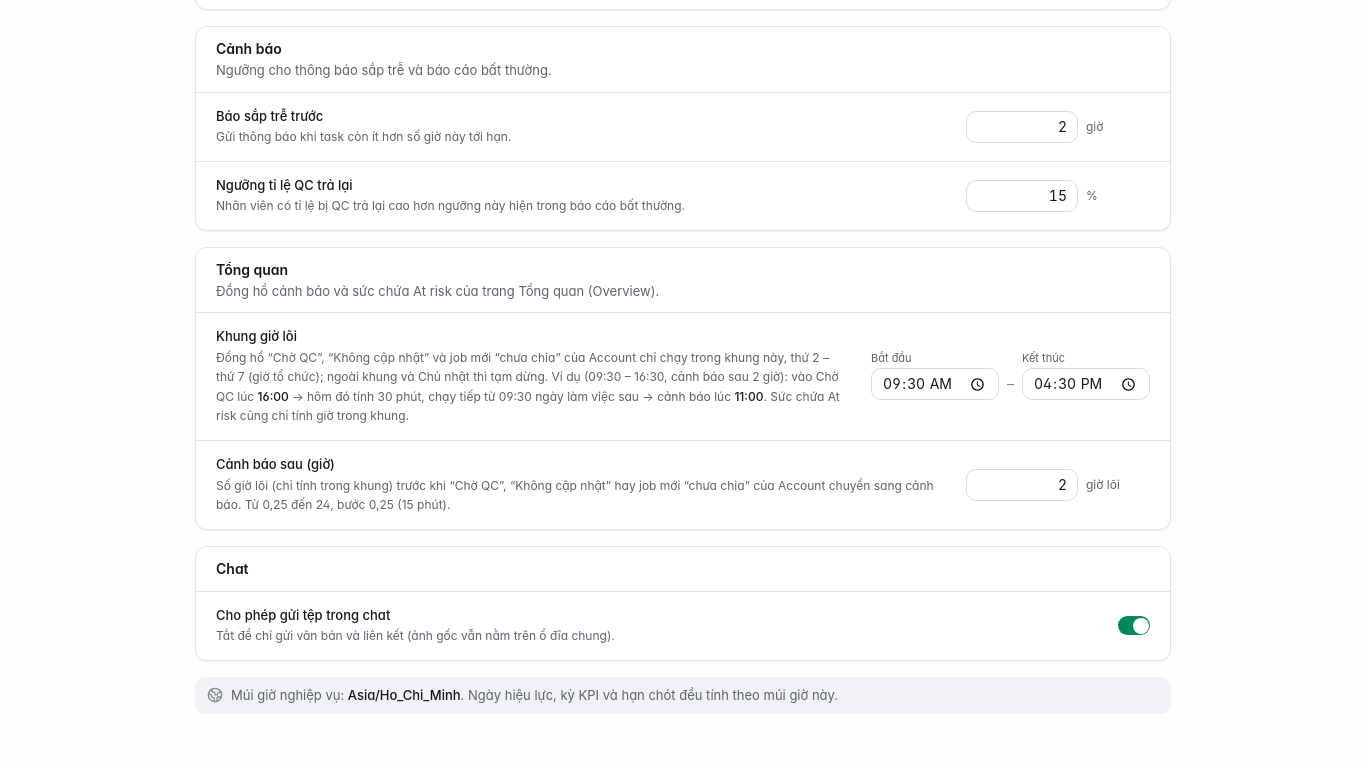
Scenario: Cài đặt chung — Tổng quan: khung giờ lõi và cảnh báo (PD-080) › the worked example follows the values being typed
This screenshot has width=1366, height=768.
(page scrolled)
Replace the text in the time field named "Bắt đầu khung lõi" with "08:00": (935, 384) [871,368,999,400]
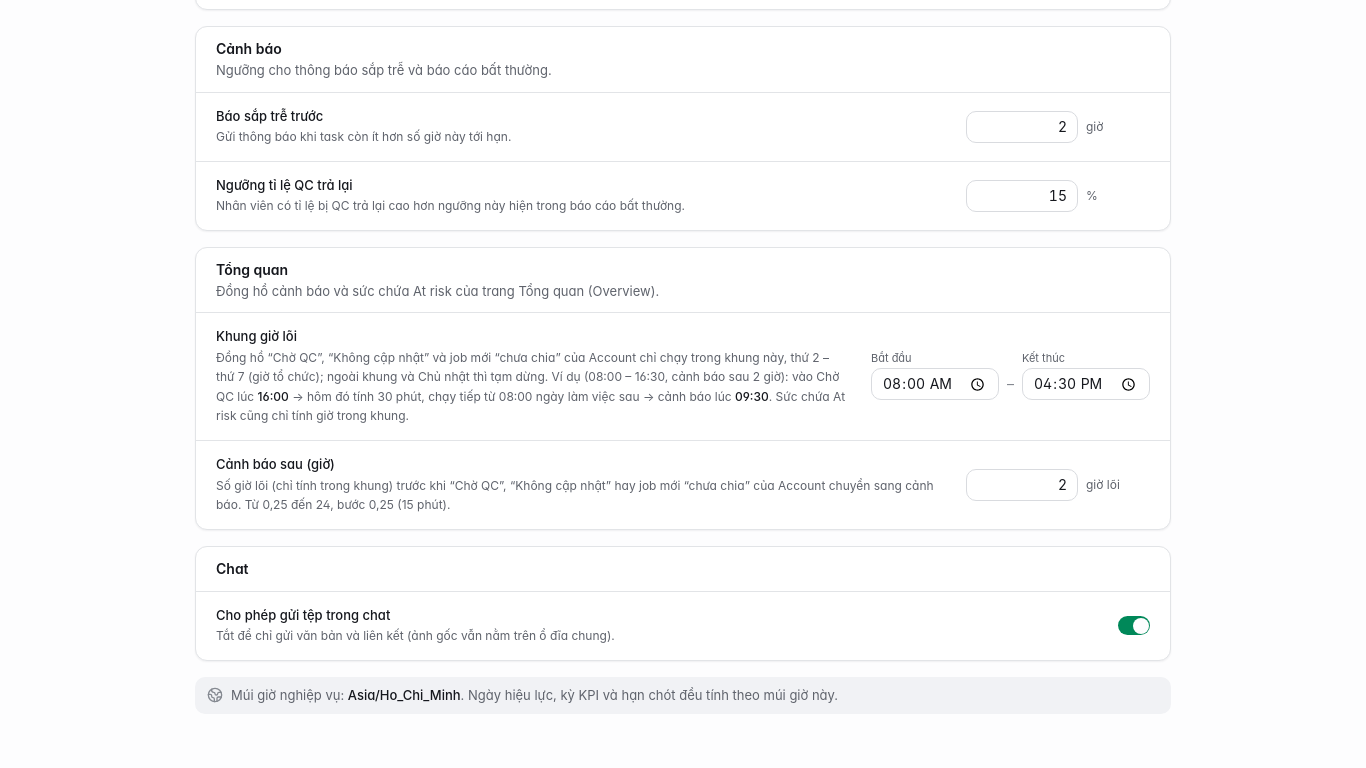
Replace the text in the time field named "Kết thúc khung lõi" with "17:00": (1086, 384) [1022,368,1150,400]
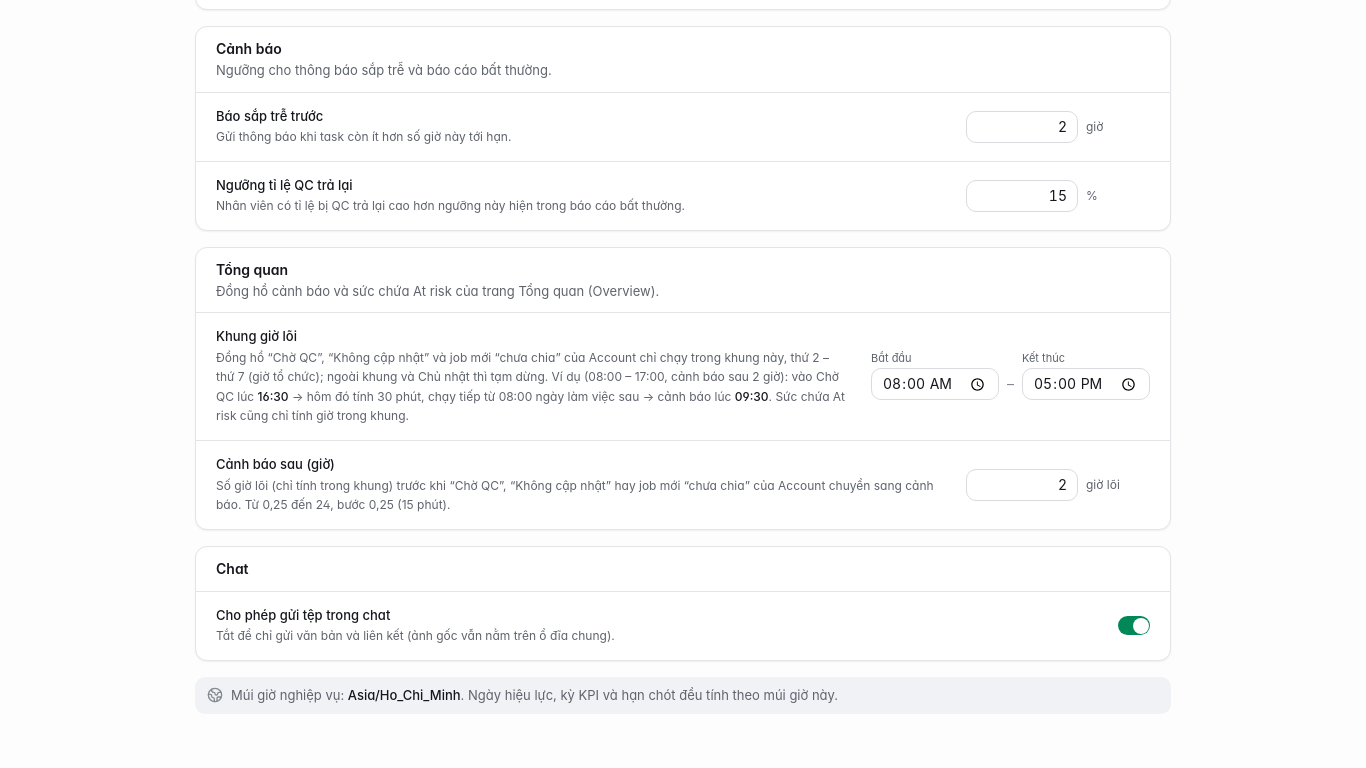
Replace the text in the field labelled "Cảnh báo sau (giờ)" with "1,5": (1022, 485) [966,469,1078,501]
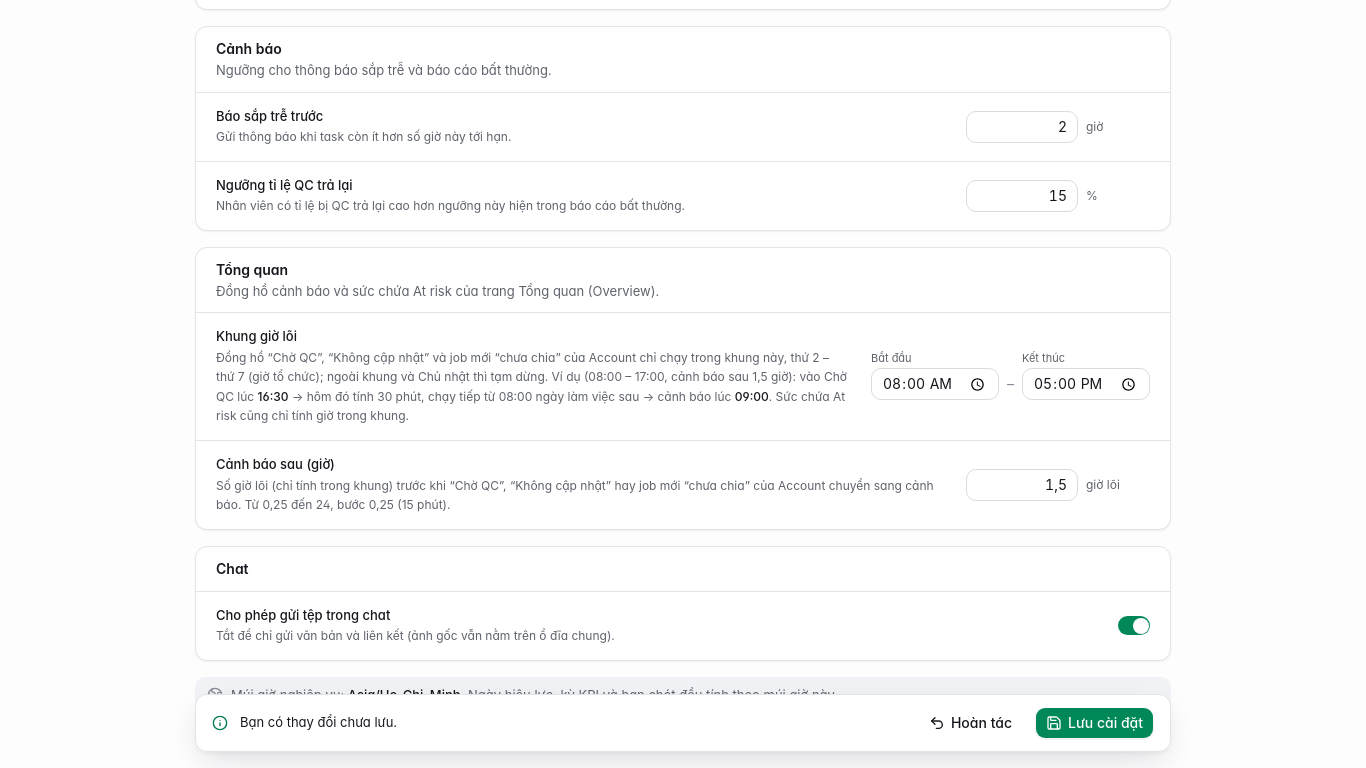
Expected: the text "chỉ chạy trong khung" shows "Ví dụ (08:00 – 17:00, cảnh báo sau 1,5 giờ): vào Chờ QC lúc 16:30 → hôm đó tính 30 phút, chạy tiếp từ 08:00 ngày làm việc sau → cảnh báo lúc 09:00", [216,348,847,426]
